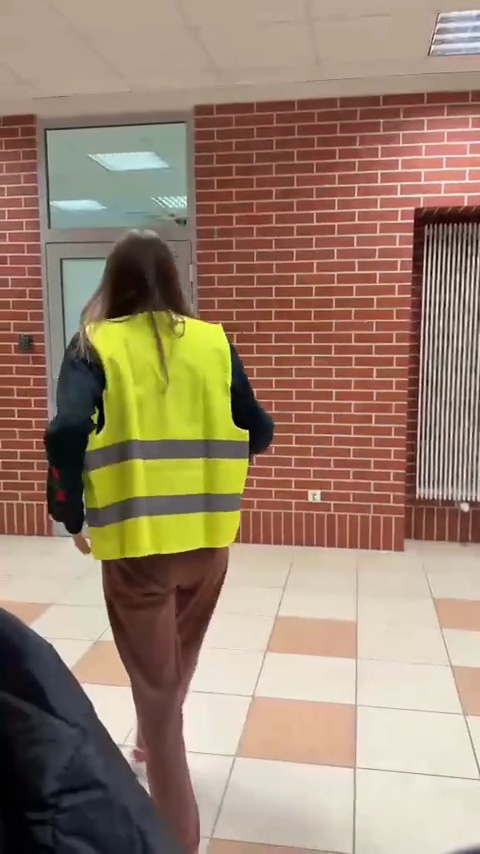vest: (33, 227, 290, 851)
